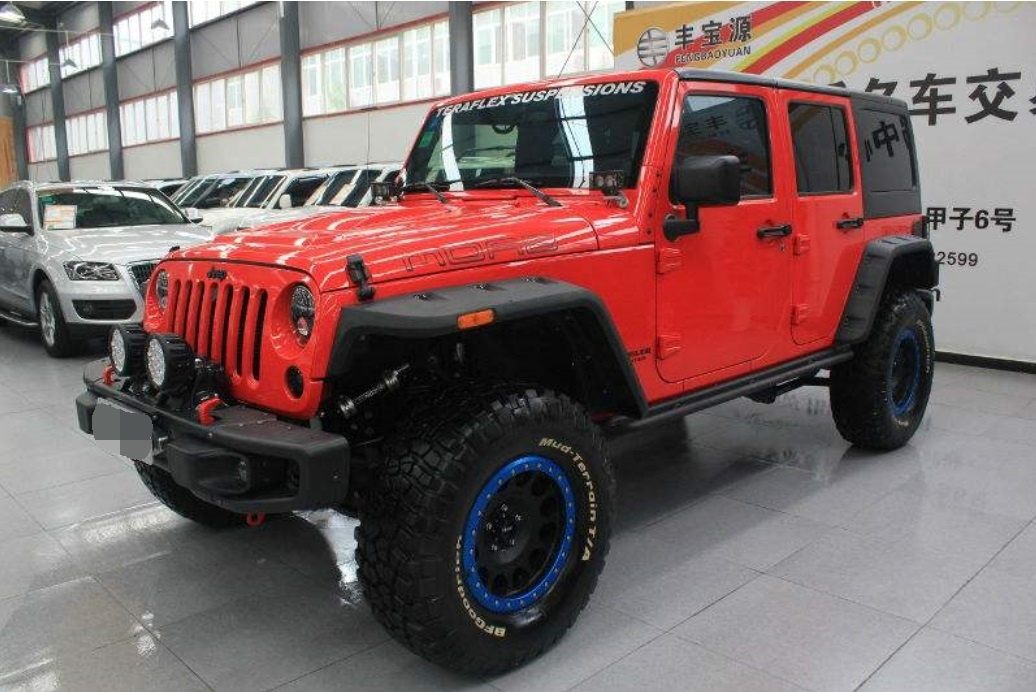jeep: (94, 53, 958, 660)
